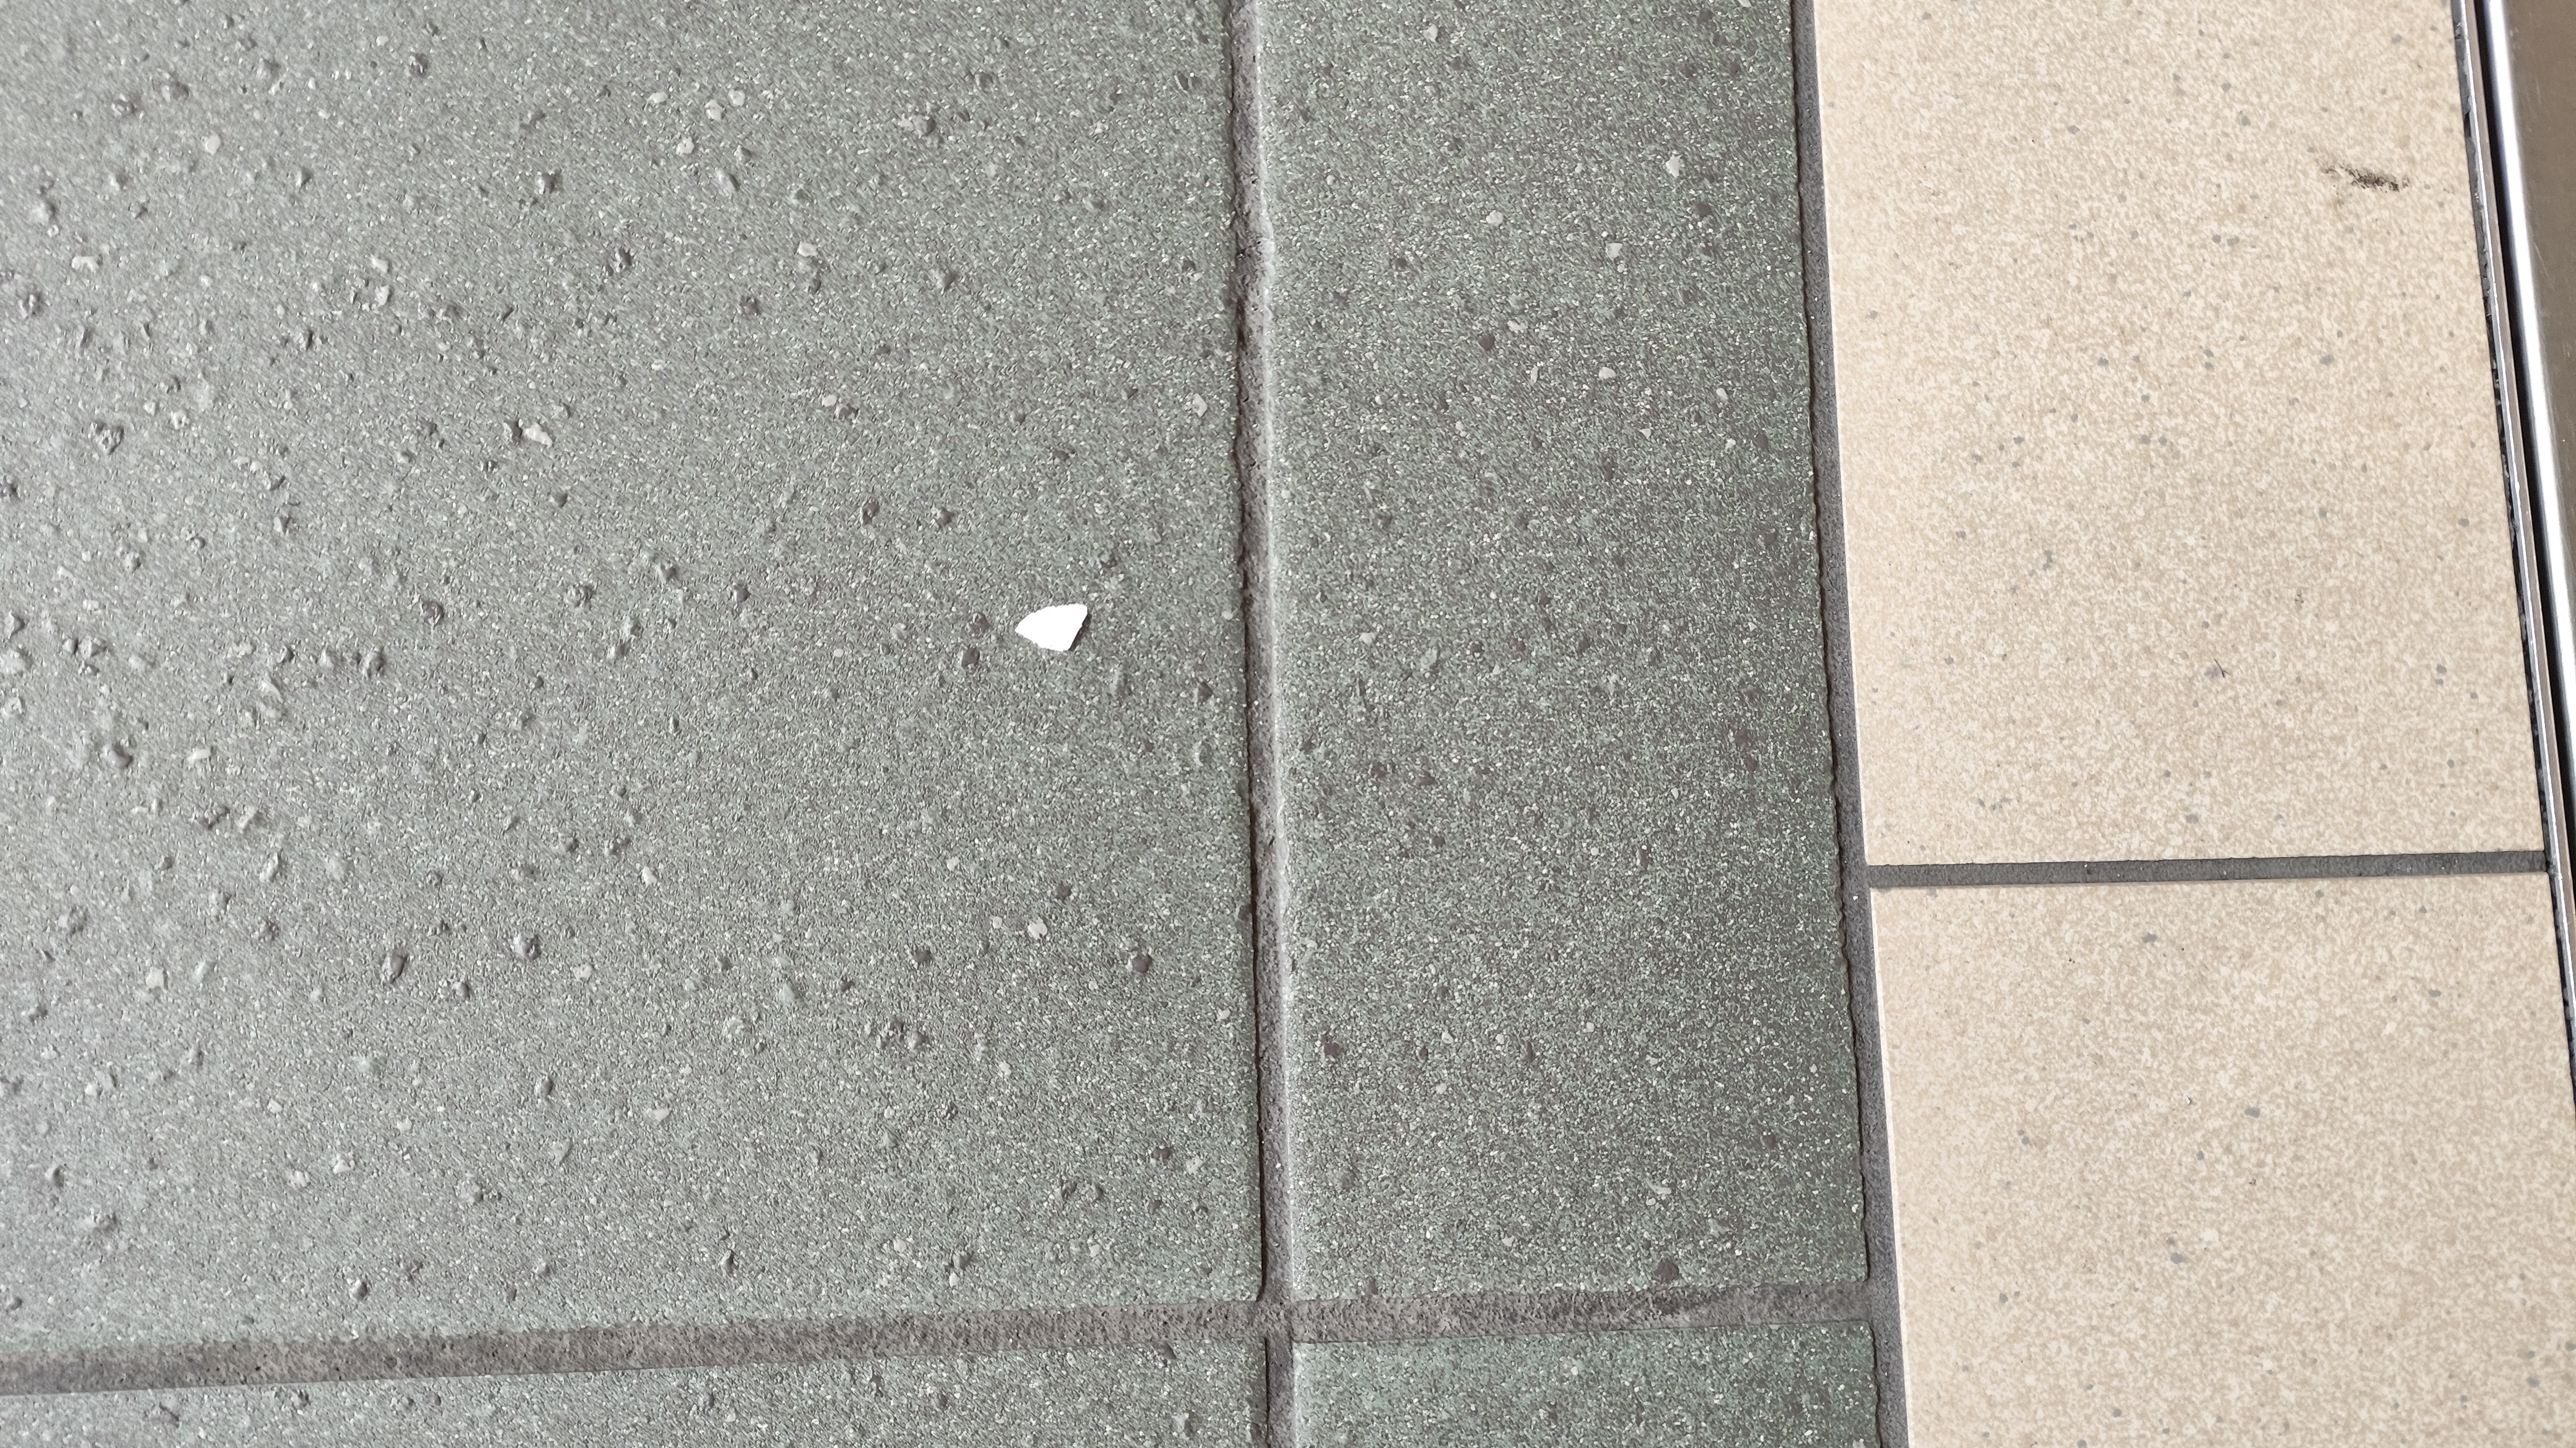Garbage: (1001, 594, 1108, 663)
Stain: (2295, 134, 2424, 207)
